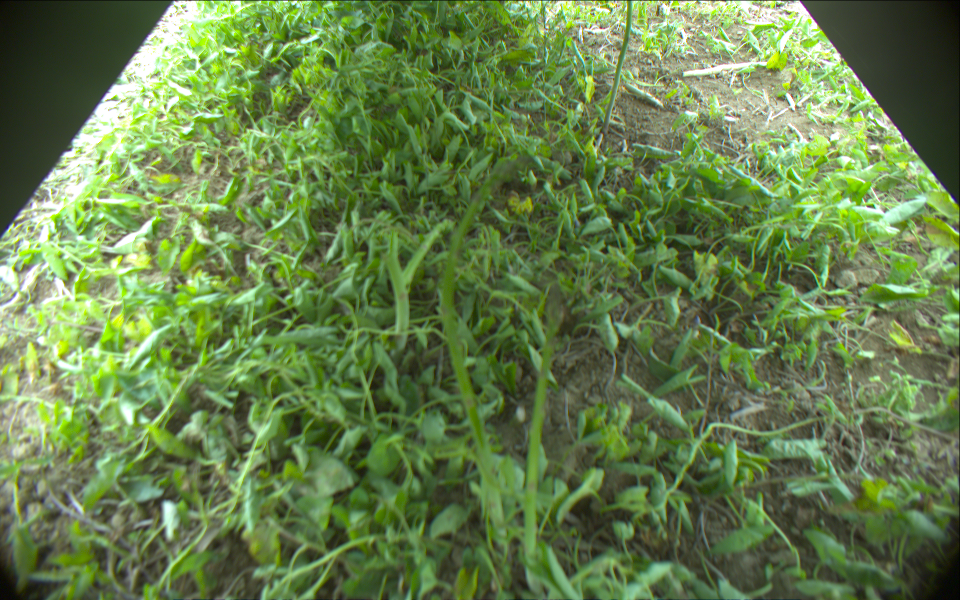aspa: (439, 165, 507, 535), (517, 282, 566, 578), (604, 1, 632, 139), (397, 222, 449, 293), (386, 233, 410, 353)
